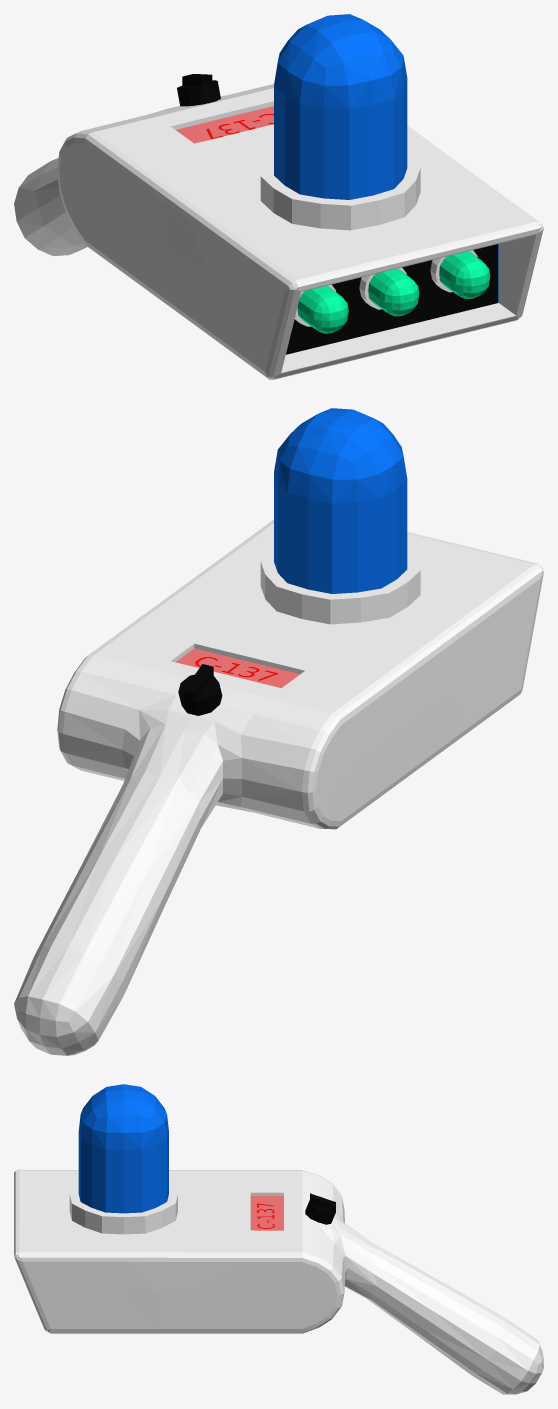
File: Portal jr.glb
3 views of the same model, one above another, from view 1: azimuth 30°, elevation 25°; view 2: azimuth 150°, elevation 25°; view 3: azimuth 270°, elevation 25° (orthographic). The views are drawn at different scales.
Size of the model in its own units: 28.35 by 45.41 by 72.49.
1 material, 1 textured.
